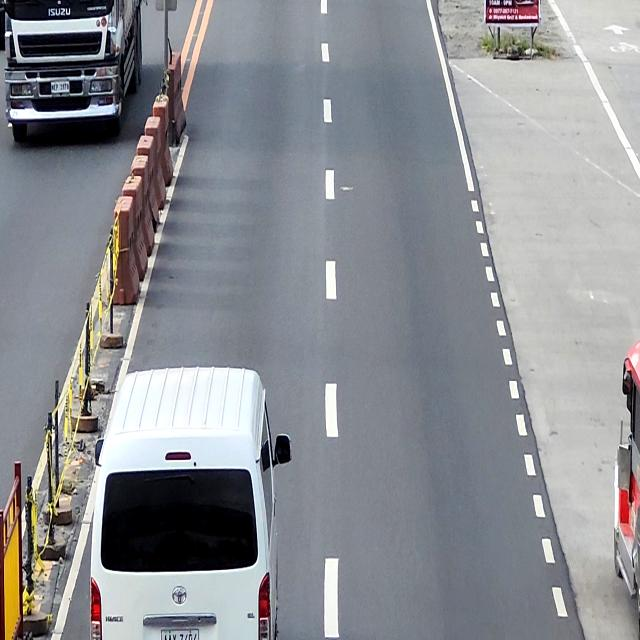Car: (90, 365, 292, 639)
Jeep: (612, 339, 640, 626)
License-Plate: (159, 628, 199, 640), (50, 80, 70, 94)
Truck: (3, 0, 143, 142)
